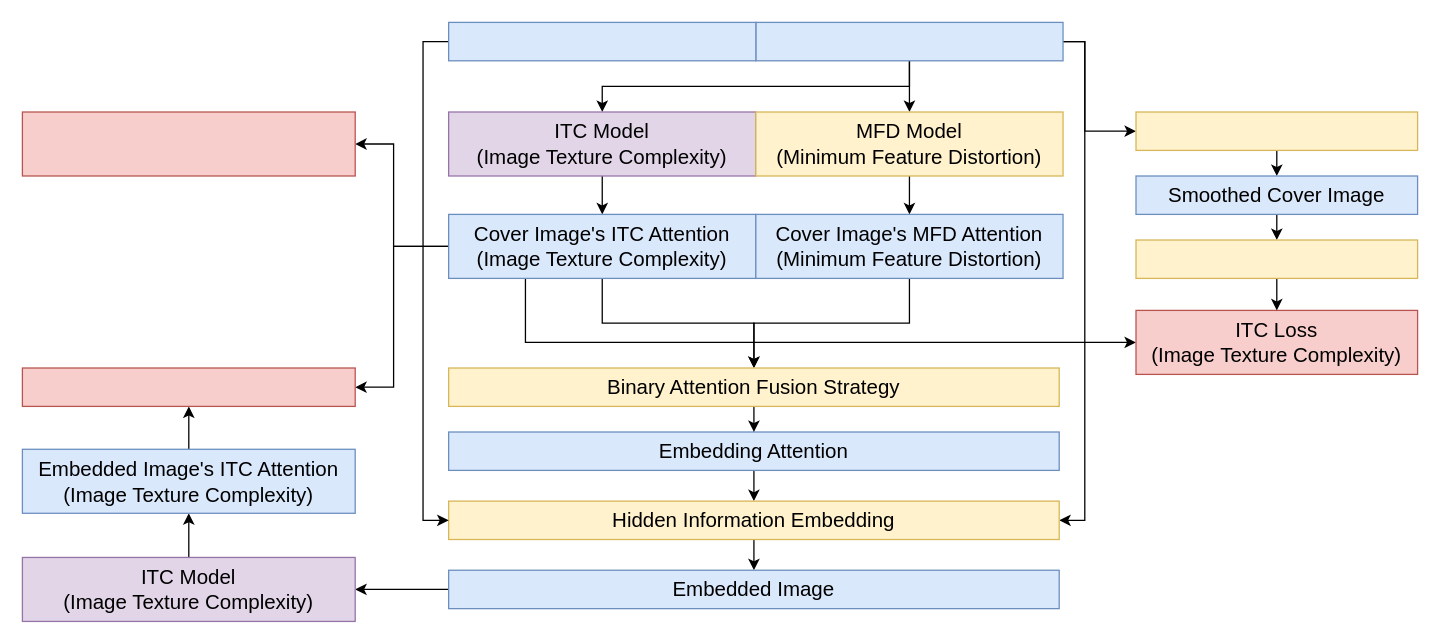
The diagram is 1440 pixels wide and 644 high, and some of its shapes have lost their labels. The box of each missing label's shape, as (x1, y1, x2, y2) in pixels:
Attention Reconstruction Loss: (21, 367, 355, 406)
Cover Image: (755, 21, 1063, 61)
Hidden Information: (447, 21, 756, 61)
Image Smoothing Model: (1135, 111, 1418, 150)
ITC Attention Area Penalty (Image Texture Complexity): (21, 111, 355, 176)
Variance Pooling: (1135, 239, 1418, 278)
